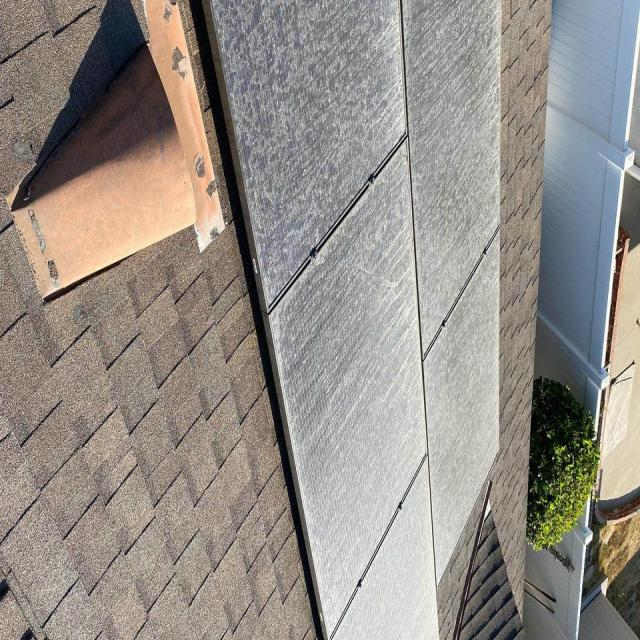dust-solar-panel: (204, 0, 500, 640)
